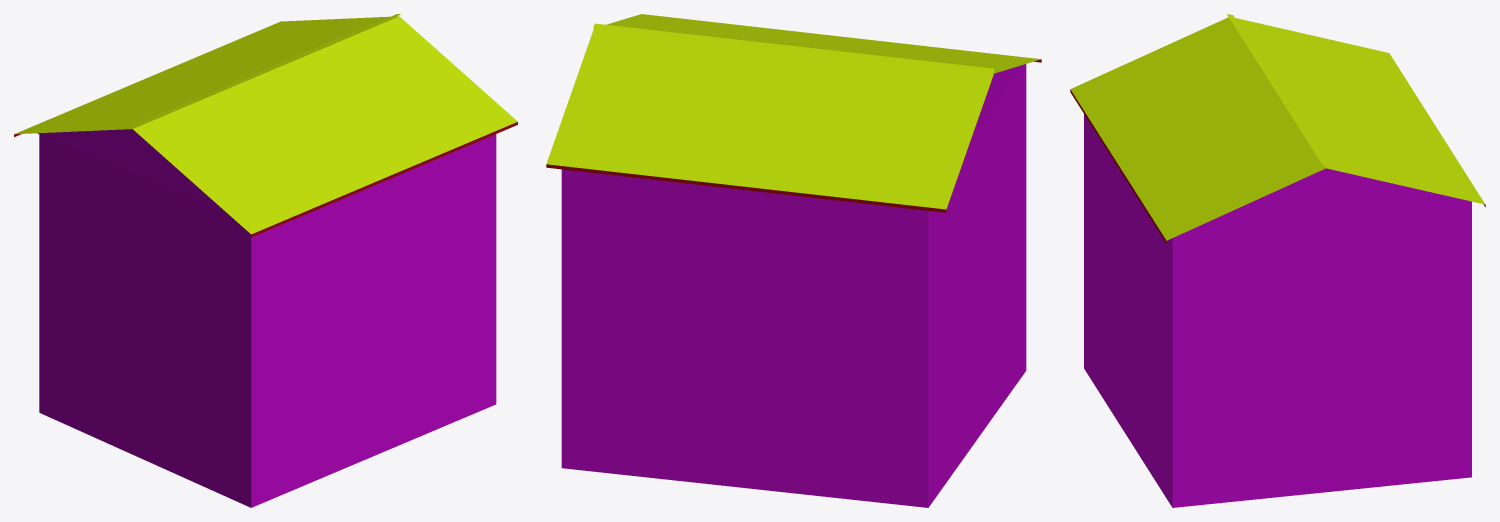
The model's file is niv_77.glb.
3 renders of one model, left to right at view 1: azimuth 30°, elevation 25°; view 2: azimuth 150°, elevation 25°; view 3: azimuth 270°, elevation 25°, orthographic. The views are drawn at different scales.
Visible parts, largest first — view 1: niv_77; view 2: niv_77; view 3: niv_77.
Part boxes in pixels (bbox=[...]): niv_77: bbox=[14, 14, 517, 507]; niv_77: bbox=[546, 14, 1041, 507]; niv_77: bbox=[1070, 14, 1485, 507].
Bounding box in the file's own units: 15.87 × 13.14 × 14.83.
